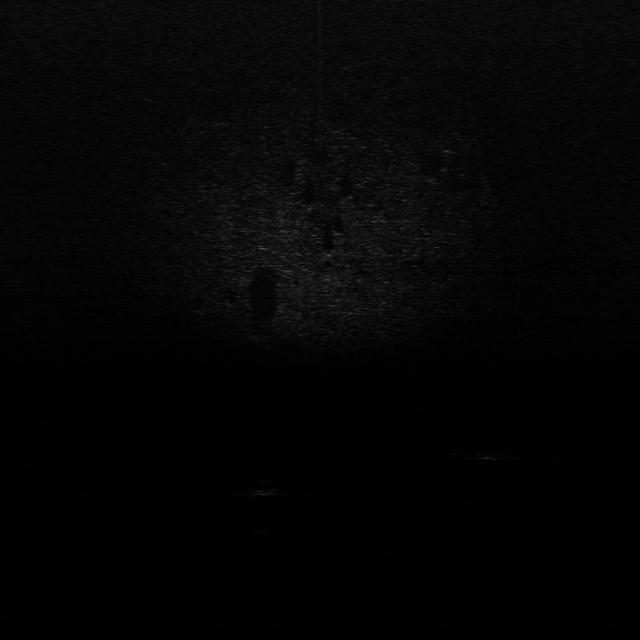ball: (249, 476, 282, 498)
human body: (456, 441, 524, 466)
